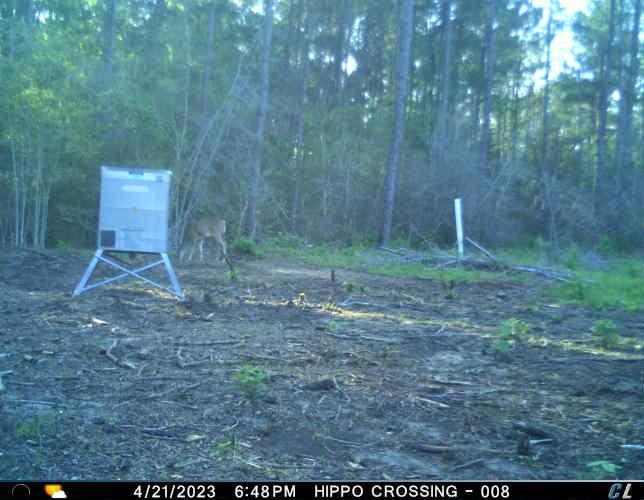Deer: (177, 216, 232, 262)
